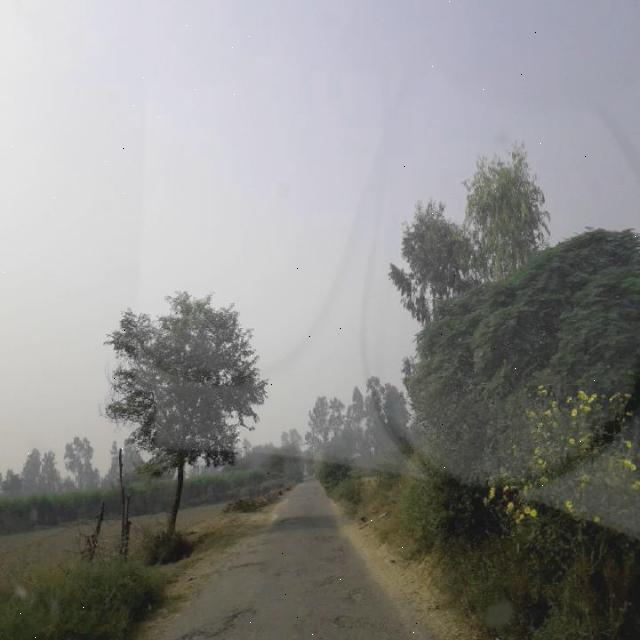D40: (303, 581, 391, 635), (188, 595, 265, 637), (308, 527, 362, 568)
